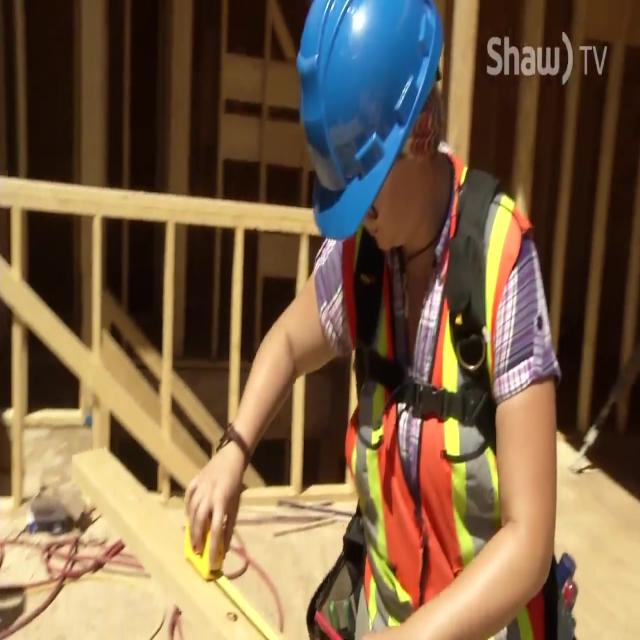Reflective-Jacket: (279, 187, 559, 628)
Safety-Helmet: (288, 2, 453, 240)
